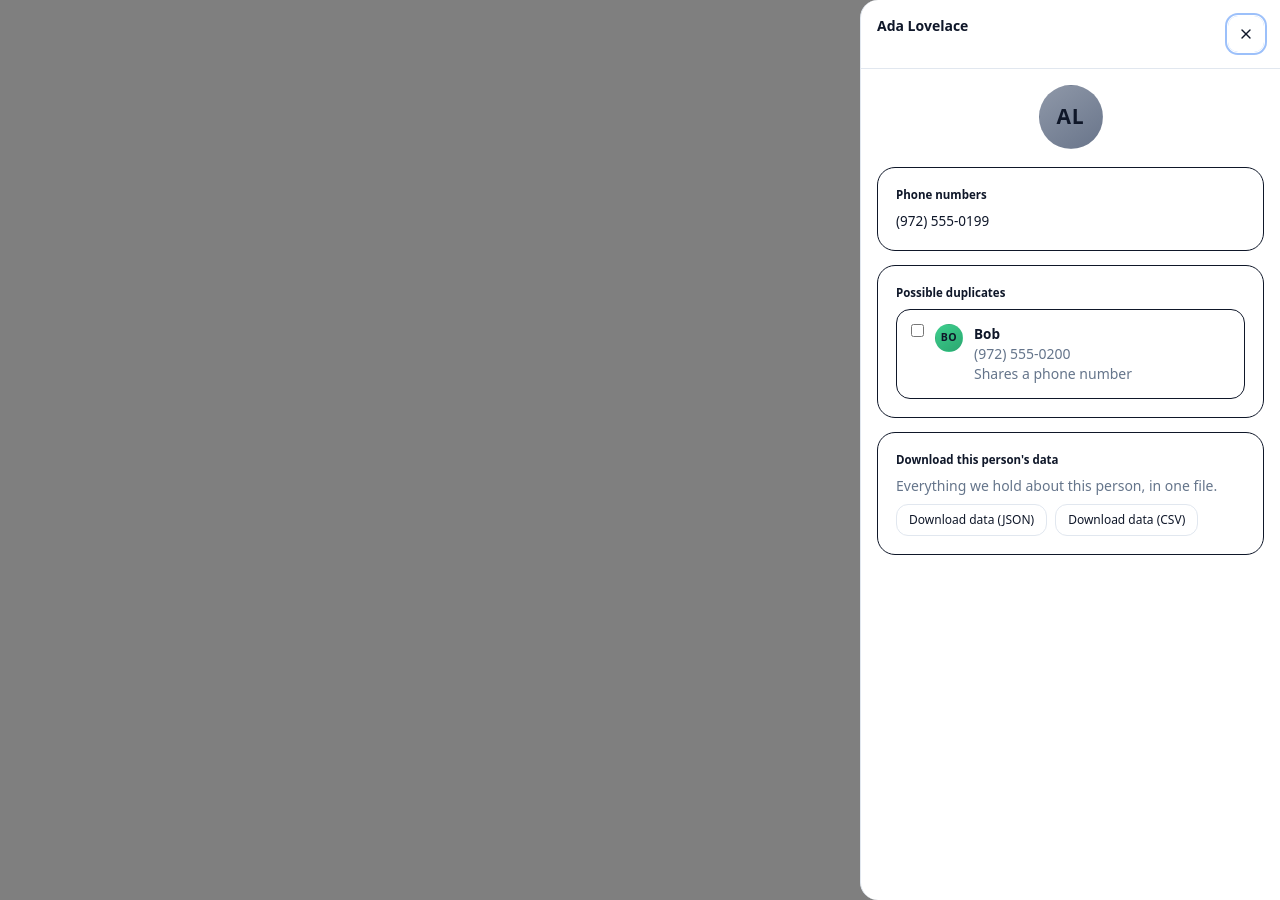
Test: P27 contact drawer › previews exactly what a merge will do before the user commits
Check: the text "Shares a phone number" is shown, box 974,364 -> 1132,383
Click the checkbox named "Merge Bob".
click(918, 330)  # box 911,324 -> 924,337
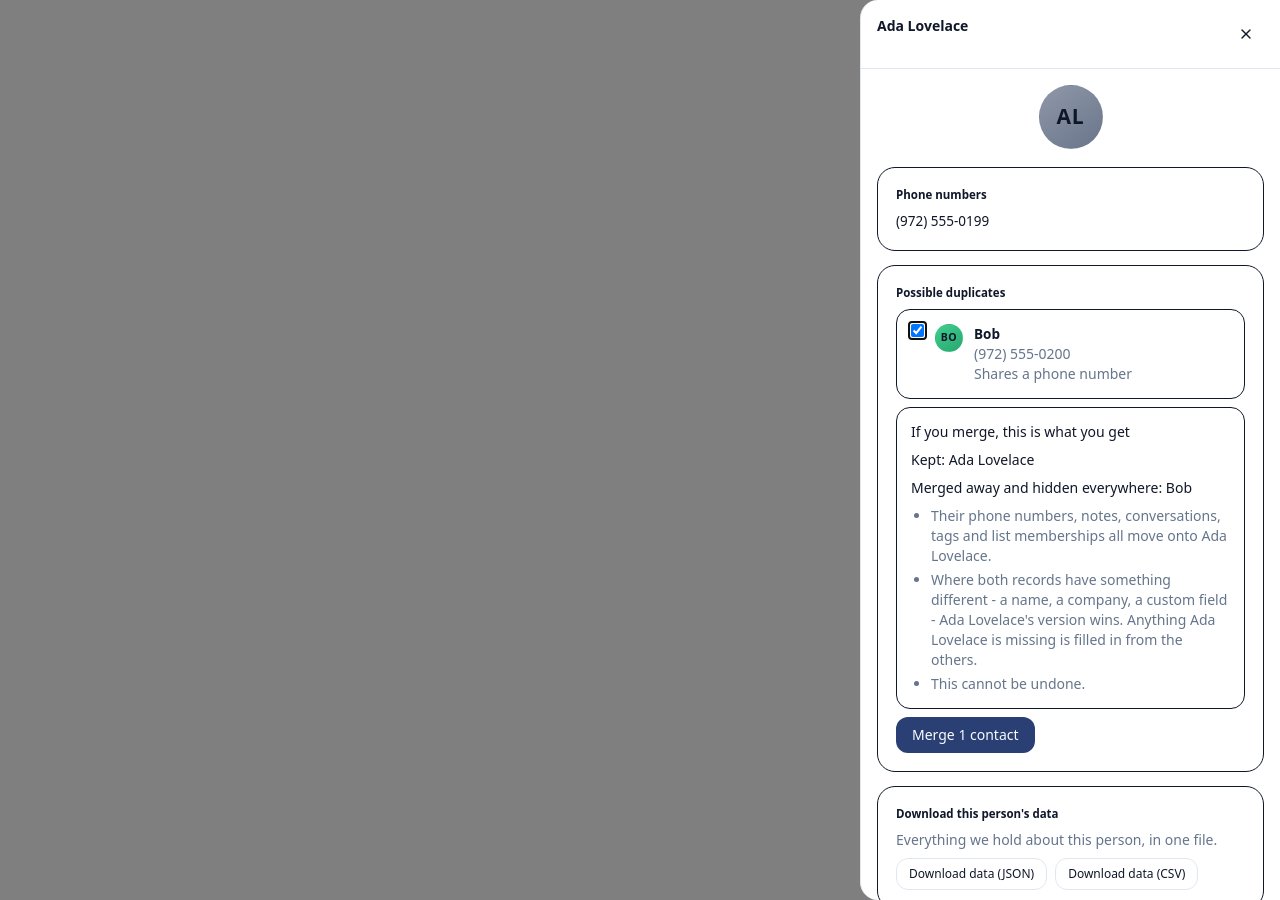
Check: the text "Kept: Ada Lovelace" is shown, box 911,450 -> 1034,469
Check: the list item "version wins" is shown, box 1025,610 -> 1190,629
Check: the list item "This cannot be undone." is shown, box 931,674 -> 1085,693
